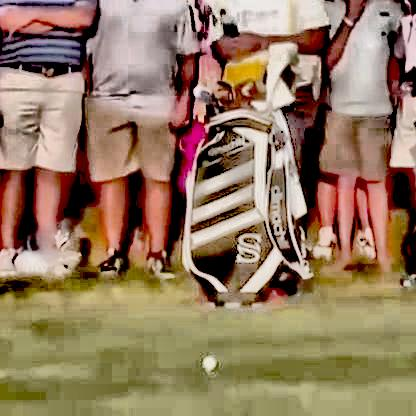golfball: (200, 348, 213, 367)
